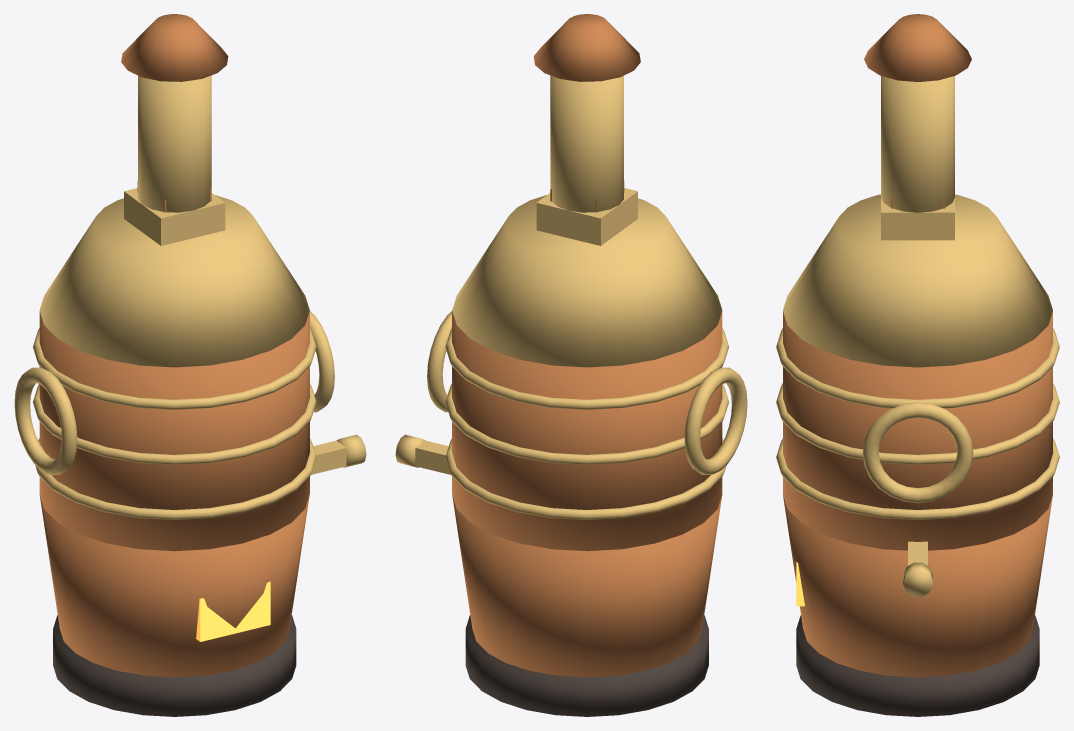
File: semaver.glb
3 views of the same model, side by side, from view 1: azimuth 30°, elevation 25°; view 2: azimuth 150°, elevation 25°; view 3: azimuth 270°, elevation 25° (orthographic).
Visible parts, largest first — view 1: Belly, Shoulder, Firebox, Base, Chimney, ChimneyCap, HandleL, Band2, Band1, Band0, TeaPot, EmberWindow (+3 smaller); view 2: Belly, Shoulder, Firebox, Base, Chimney, ChimneyCap, HandleL, Band2, Band1, Band0, TeaPot, HandleR (+2 smaller); view 3: Belly, Shoulder, Firebox, Base, Chimney, ChimneyCap, HandleR, Band0, Band2, Band1, TeaPot, TapHandle.
Part boxes in pixels (x1=…): Belly: x1=39, y1=311, x2=309, y2=551; Shoulder: x1=39, y1=195, x2=309, y2=367; Firebox: x1=39, y1=495, x2=309, y2=677; Base: x1=53, y1=615, x2=296, y2=716; Chimney: x1=138, y1=75, x2=211, y2=212; ChimneyCap: x1=121, y1=14, x2=228, y2=81; HandleL: x1=14, y1=367, x2=77, y2=474; Band2: x1=33, y1=328, x2=316, y2=409; Band1: x1=33, y1=383, x2=316, y2=464; Band0: x1=35, y1=438, x2=316, y2=519; TeaPot: x1=124, y1=188, x2=225, y2=245; EmberWindow: x1=196, y1=581, x2=270, y2=641; Belly: x1=452, y1=311, x2=722, y2=551; Shoulder: x1=452, y1=195, x2=722, y2=367; Firebox: x1=452, y1=495, x2=722, y2=677; Base: x1=465, y1=615, x2=708, y2=716; Chimney: x1=550, y1=75, x2=623, y2=212; ChimneyCap: x1=533, y1=14, x2=640, y2=81; HandleL: x1=684, y1=367, x2=747, y2=474; Band2: x1=445, y1=328, x2=728, y2=409; Band1: x1=445, y1=383, x2=728, y2=464; Band0: x1=445, y1=438, x2=726, y2=519; TeaPot: x1=536, y1=188, x2=637, y2=245; HandleR: x1=427, y1=311, x2=451, y2=412; Belly: x1=783, y1=311, x2=1052, y2=550; Shoulder: x1=783, y1=194, x2=1052, y2=367; Firebox: x1=783, y1=495, x2=1052, y2=677; Base: x1=796, y1=615, x2=1039, y2=716; Chimney: x1=881, y1=76, x2=954, y2=212; ChimneyCap: x1=864, y1=14, x2=971, y2=81; HandleR: x1=862, y1=402, x2=973, y2=503; Band0: x1=776, y1=438, x2=1059, y2=519; Band2: x1=776, y1=328, x2=1059, y2=408; Band1: x1=776, y1=383, x2=1059, y2=464; TeaPot: x1=881, y1=198, x2=954, y2=240; TapHandle: x1=903, y1=562, x2=932, y2=596.
Size of the model in its own units: 0.547 by 1.05 by 0.42.
